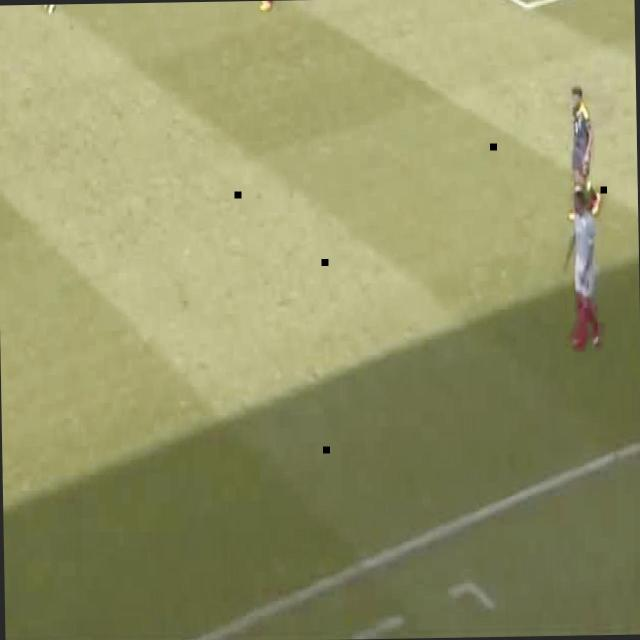player-white: (564, 190, 598, 346), (566, 87, 600, 217), (255, 1, 273, 12), (32, 4, 54, 12)
